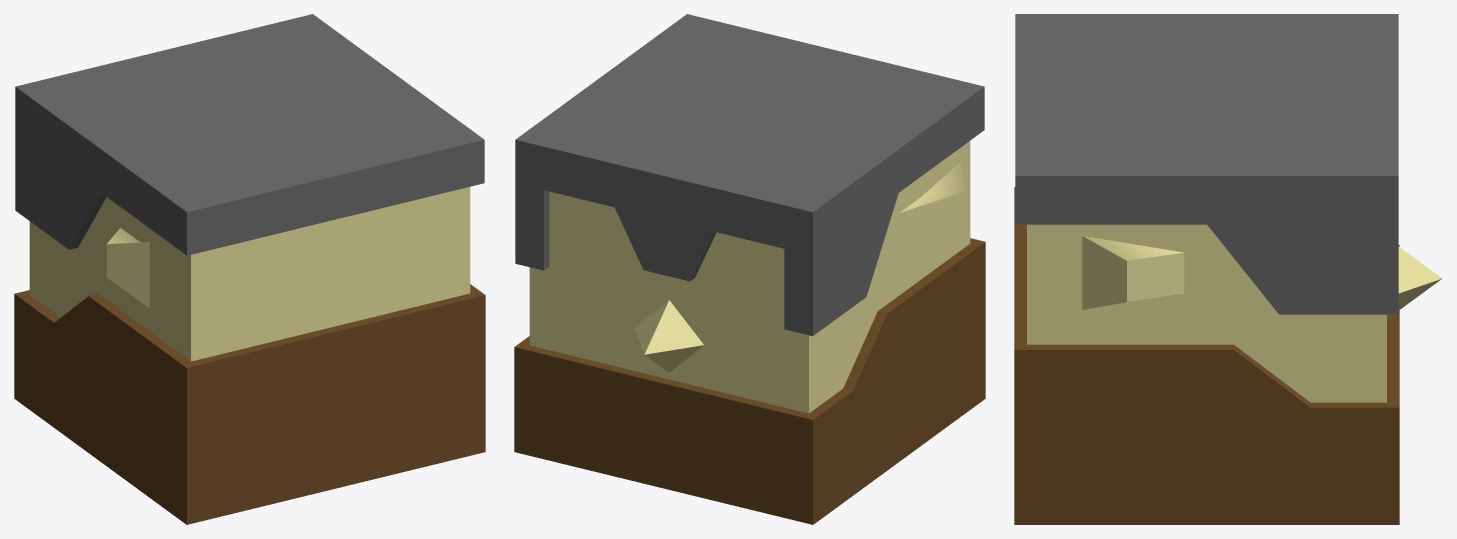
File: player.gltf
3 views of the same model, side by side, from view 1: azimuth 30°, elevation 25°; view 2: azimuth 150°, elevation 25°; view 3: azimuth 270°, elevation 25° (orthographic). The views are drawn at different scales.
Parts seen in each view (by area): view 1: Cube.002, Cube.001, Cube.003; view 2: Cube.002, Cube.001, Cube.003; view 3: Cube.002, Cube.001, Cube.003.
Boxes of the visible parts, x1,y1,x2,y2 form: Cube.002: [15, 14, 484, 255]; Cube.001: [14, 284, 485, 524]; Cube.003: [29, 187, 470, 361]; Cube.002: [515, 14, 984, 336]; Cube.001: [514, 238, 985, 524]; Cube.003: [529, 141, 970, 413]; Cube.002: [1015, 14, 1398, 314]; Cube.001: [1014, 187, 1399, 524]; Cube.003: [1027, 224, 1442, 402].
Size of the model in its own units: 2.57 by 2.14 by 2.38.
